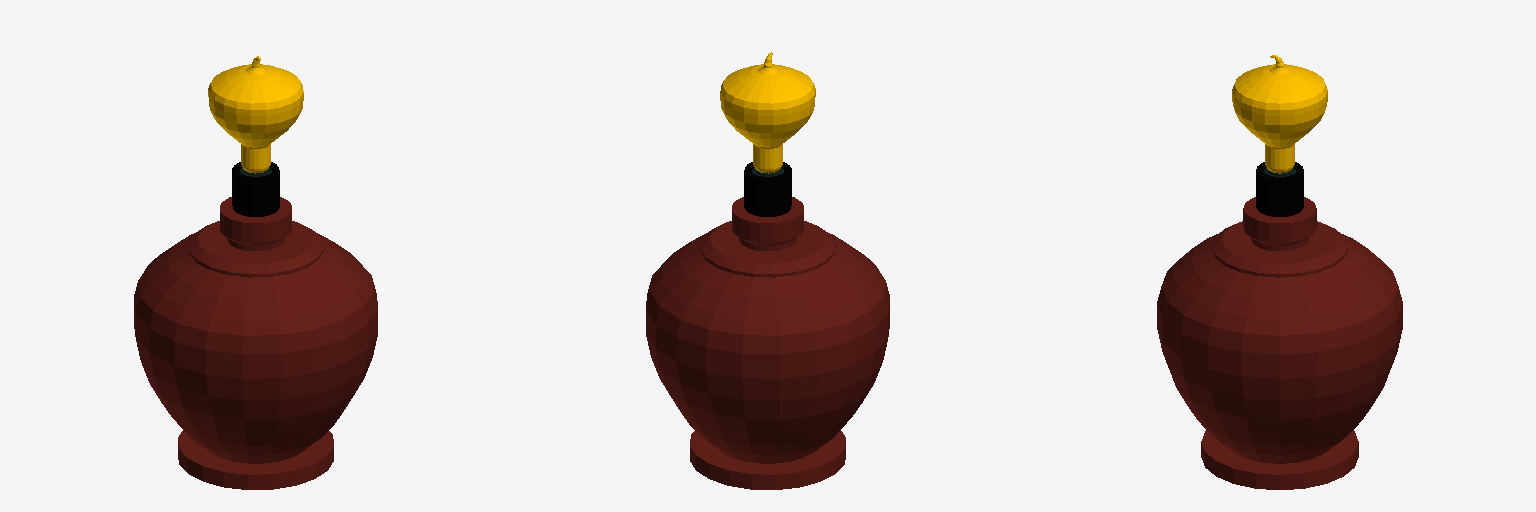
File: lampExport.obj
3 views of the same model, side by side, from view 1: azimuth 30°, elevation 25°; view 2: azimuth 150°, elevation 25°; view 3: azimuth 270°, elevation 25° (orthographic).
Visible parts, largest first — view 1: lampAndBulb; view 2: lampAndBulb; view 3: lampAndBulb.
Boxes of the visible parts, x1=… form: lampAndBulb: x1=134, y1=56, x2=377, y2=489; lampAndBulb: x1=646, y1=52, x2=889, y2=489; lampAndBulb: x1=1157, y1=55, x2=1402, y2=489.
Bounding box in the file's own units: 2.36 × 4.26 × 2.36.